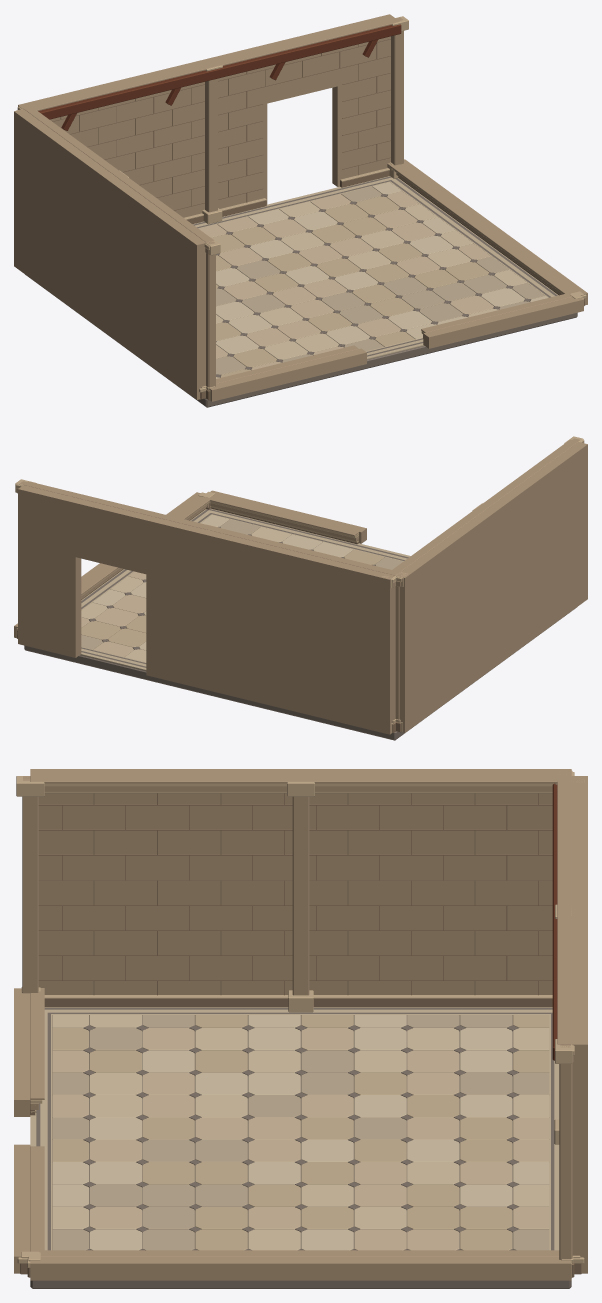
Rendered from mainb1_u01_architecture.glb.
3 renders of one model, top to bottom at view 1: azimuth 30°, elevation 25°; view 2: azimuth 150°, elevation 25°; view 3: azimuth 270°, elevation 25°, orthographic. The views are drawn at different scales.
Visible parts, largest first — view 1: mainb1_u01_Floor, mainb1_u01_left_Wall_Solid_00, mainb1_u01_rear_Wall_Solid_00, mainb1_u01_front_Cutedge_Solid_00, mainb1_u01_Rear_tie, mainb1_u01_rear_Masonry_Real_joint_mesh, mainb1_u01_rear_Wall_Cornice_00_3_0, mainb1_u01_Floor_Foundation, mainb1_u01_right_Cutedge_Solid_00, mainb1_u01_right_Cutedge_Cornice_00_3_0, Pier_002, Pier_001 (+5 smaller); view 2: mainb1_u01_rear_Wall_Solid_00, mainb1_u01_left_Wall_Solid_00, mainb1_u01_Floor, mainb1_u01_Floor_Foundation, mainb1_u01_rear_Wall_Cornice_00_3_0, mainb1_u01_left_Wall_Cornice_00_3_0, mainb1_u01_front_Cutedge_Solid_00, mainb1_u01_front_Cutedge_Cornice_00_3_0, Pilaster_Shaft, mainb1_u01_right_Cutedge_Cornice_00_3_0, mainb1_u01_right_Cutedge_Solid_00, mainb1_u01_front_Cutedge_Cornice_00_1_0; view 3: mainb1_u01_Floor, mainb1_u01_left_Wall_Solid_00, mainb1_u01_right_Cutedge_Solid_00, mainb1_u01_rear_Wall_Solid_00, mainb1_u01_left_Masonry_Real_joint_mesh, mainb1_u01_Floor_Foundation, mainb1_u01_left_Wall_Cornice_00_3_0, mainb1_u01_left_Wall_Skirting_00_0, mainb1_u01_front_Cutedge_Solid_00, mainb1_u01_Floor_Diamond_inlays, mainb1_u01_rear_Wall_Cornice_00_3_0, mainb1_u01_right_Cutedge_Cornice_00_3_0 (+11 smaller).
Part boxes in pixels (x1,y1,x2,y2): mainb1_u01_Floor: (192,176,558,378); mainb1_u01_left_Wall_Solid_00: (14,109,205,399); mainb1_u01_rear_Wall_Solid_00: (18,14,394,217); mainb1_u01_front_Cutedge_Solid_00: (209,297,583,401); mainb1_u01_Rear_tie: (38,24,401,119); mainb1_u01_rear_Masonry_Real_joint_mesh: (52,39,390,210); mainb1_u01_rear_Wall_Cornice_00_3_0: (24,18,399,111); mainb1_u01_Floor_Foundation: (25,274,577,407); mainb1_u01_right_Cutedge_Solid_00: (400,159,587,305); mainb1_u01_right_Cutedge_Cornice_00_3_0: (387,163,573,296); Pier_002: (391,17,403,165); Pier_001: (205,78,217,212); mainb1_u01_rear_Wall_Solid_00: (18,485,394,734); mainb1_u01_left_Wall_Solid_00: (396,442,587,732); mainb1_u01_Floor: (80,508,410,670); mainb1_u01_Floor_Foundation: (24,607,576,740); mainb1_u01_rear_Wall_Cornice_00_3_0: (24,481,399,575); mainb1_u01_left_Wall_Cornice_00_3_0: (388,439,577,575); mainb1_u01_front_Cutedge_Solid_00: (210,490,366,543); mainb1_u01_front_Cutedge_Cornice_00_3_0: (202,496,358,536); Pilaster_Shaft: (395,586,399,719); mainb1_u01_right_Cutedge_Cornice_00_3_0: (81,496,212,594); mainb1_u01_right_Cutedge_Solid_00: (14,492,202,637); mainb1_u01_front_Cutedge_Cornice_00_1_0: (210,503,358,541); mainb1_u01_Floor: (30,1007,559,1250); mainb1_u01_left_Wall_Solid_00: (30,769,571,994); mainb1_u01_right_Cutedge_Solid_00: (30,1256,571,1280); mainb1_u01_rear_Wall_Solid_00: (571,776,587,1273); mainb1_u01_left_Masonry_Real_joint_mesh: (38,793,552,995); mainb1_u01_Floor_Foundation: (30,1280,571,1288); mainb1_u01_left_Wall_Cornice_00_3_0: (30,775,571,783); mainb1_u01_left_Wall_Skirting_00_0: (44,999,552,1007); mainb1_u01_front_Cutedge_Solid_00: (14,988,30,1273); mainb1_u01_Floor_Diamond_inlays: (83,1025,518,1250); mainb1_u01_rear_Wall_Cornice_00_3_0: (557,775,571,1044); mainb1_u01_right_Cutedge_Cornice_00_3_0: (30,1250,559,1256).
Bounding box in the file's own units: 11.36 × 4.61 × 9.76.
